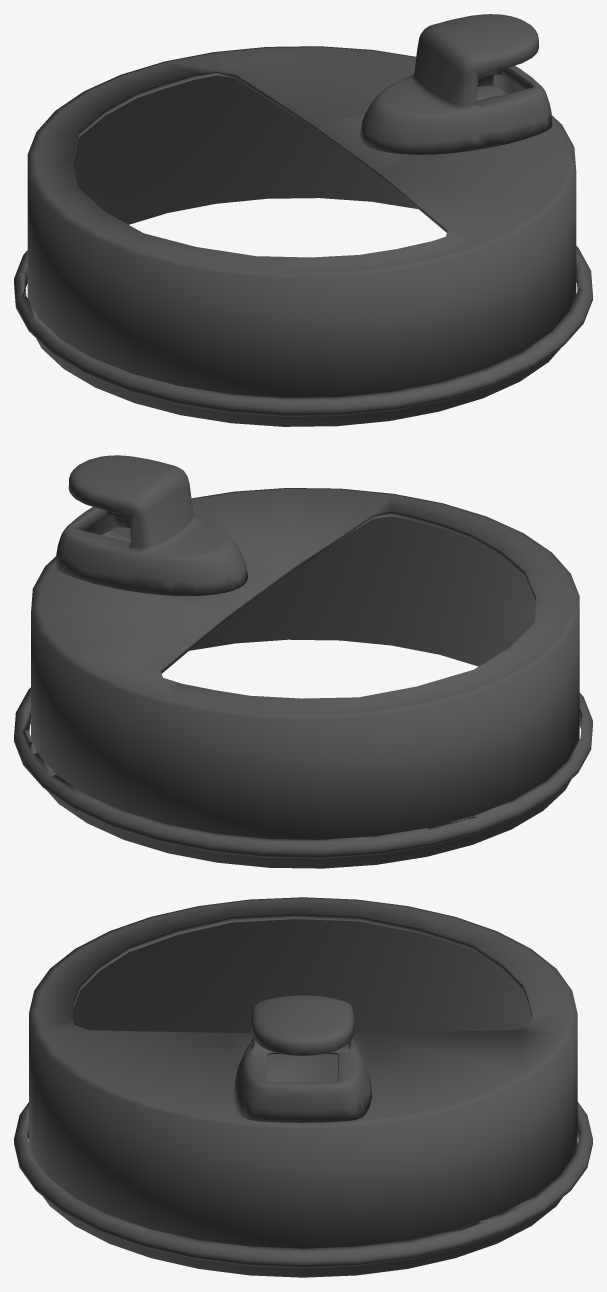
Rendered from base_light.dae.
3 renders of one model, top to bottom at view 1: azimuth 30°, elevation 25°; view 2: azimuth 150°, elevation 25°; view 3: azimuth 270°, elevation 25°, orthographic.
Visible parts, largest first — view 1: Base, URG, Bumper; view 2: Base, URG, Bumper; view 3: Base, Bumper, URG.
Part boxes in pixels (<box>): Base: <box>27,46,576,426</box>; URG: <box>359,14,552,154</box>; Bumper: <box>14,246,592,416</box>; Base: <box>31,488,579,868</box>; URG: <box>55,455,247,595</box>; Bumper: <box>14,687,592,858</box>; Base: <box>29,897,577,1277</box>; Bumper: <box>14,1102,592,1268</box>; URG: <box>233,995,372,1122</box>.
Size of the model in its own units: 0.4545 by 0.4545 by 0.2058.
3 materials, 3 textured.
